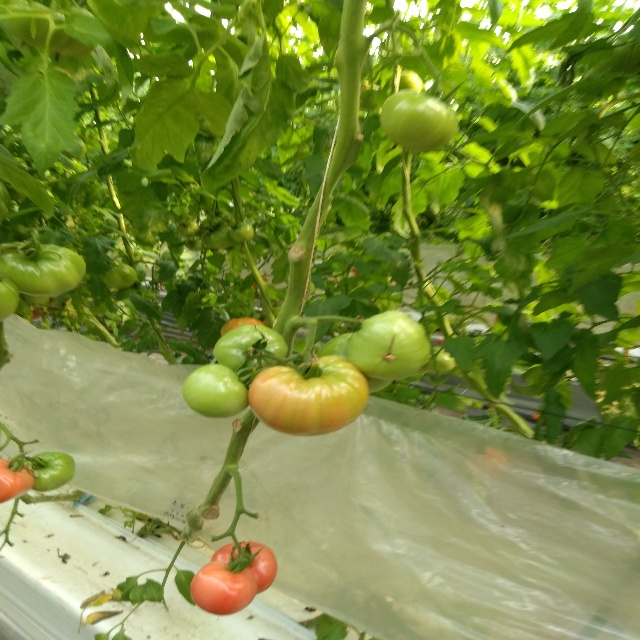b_green: (346, 310, 432, 380), (380, 88, 458, 151), (0, 242, 87, 296), (212, 324, 289, 383), (182, 363, 249, 418), (25, 451, 75, 492), (103, 262, 137, 289), (0, 275, 19, 323)
b_half_ripened: (248, 355, 370, 437), (190, 562, 258, 616), (210, 541, 277, 595), (0, 458, 36, 503), (220, 317, 267, 337)
